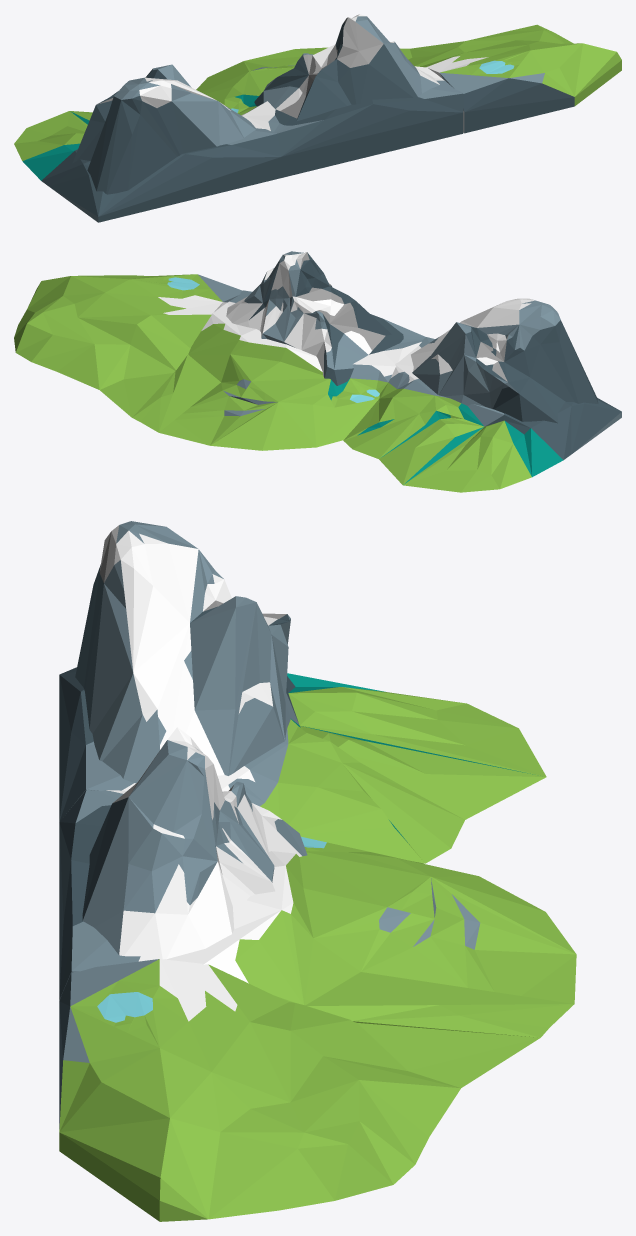
The picture shows the model from 3 angles, top to bottom: view 1: azimuth 30°, elevation 25°; view 2: azimuth 150°, elevation 25°; view 3: azimuth 270°, elevation 25°; orthographic projection. The views are drawn at different scales.
Parts seen in each view (by area): view 1: mesh_932165243, mesh_2126993567, mesh_475224936, mesh_1845701592, mesh_387115814; view 2: mesh_932165243, mesh_2126993567, mesh_475224936, mesh_1845701592, mesh_387115814; view 3: mesh_2126993567, mesh_932165243, mesh_475224936, mesh_1845701592, mesh_387115814.
Boxes of the visible parts, x1=… form: mesh_932165243: x1=196, y1=47, x2=463, y2=177; mesh_2126993567: x1=400, y1=24, x2=621, y2=133; mesh_475224936: x1=14, y1=111, x2=280, y2=222; mesh_1845701592: x1=72, y1=64, x2=256, y2=194; mesh_387115814: x1=254, y1=14, x2=439, y2=120; mesh_932165243: x1=132, y1=290, x2=425, y2=450; mesh_2126993567: x1=14, y1=274, x2=242, y2=417; mesh_475224936: x1=343, y1=337, x2=621, y2=492; mesh_1845701592: x1=411, y1=298, x2=598, y2=423; mesh_387115814: x1=226, y1=251, x2=391, y2=385; mesh_2126993567: x1=59, y1=959, x2=540, y2=1221; mesh_932165243: x1=59, y1=789, x2=576, y2=1037; mesh_475224936: x1=59, y1=667, x2=546, y2=863; mesh_1845701592: x1=75, y1=521, x2=290, y2=783; mesh_387115814: x1=82, y1=727, x2=307, y2=959.
Size of the model in its own units: 637 by 129 by 260.
